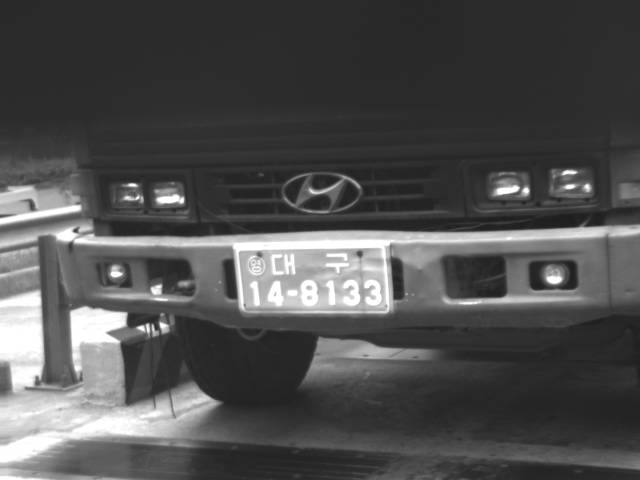car: (54, 76, 638, 405)
plate: (237, 246, 388, 314)
